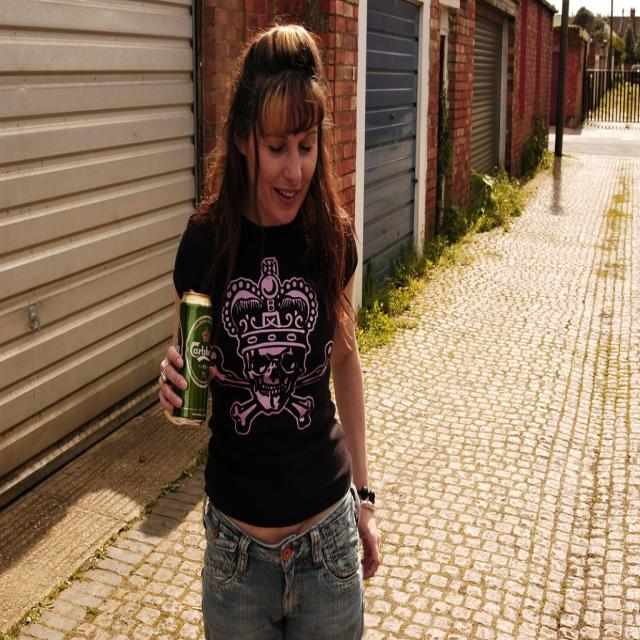carlsberg: (188, 319, 214, 390)
